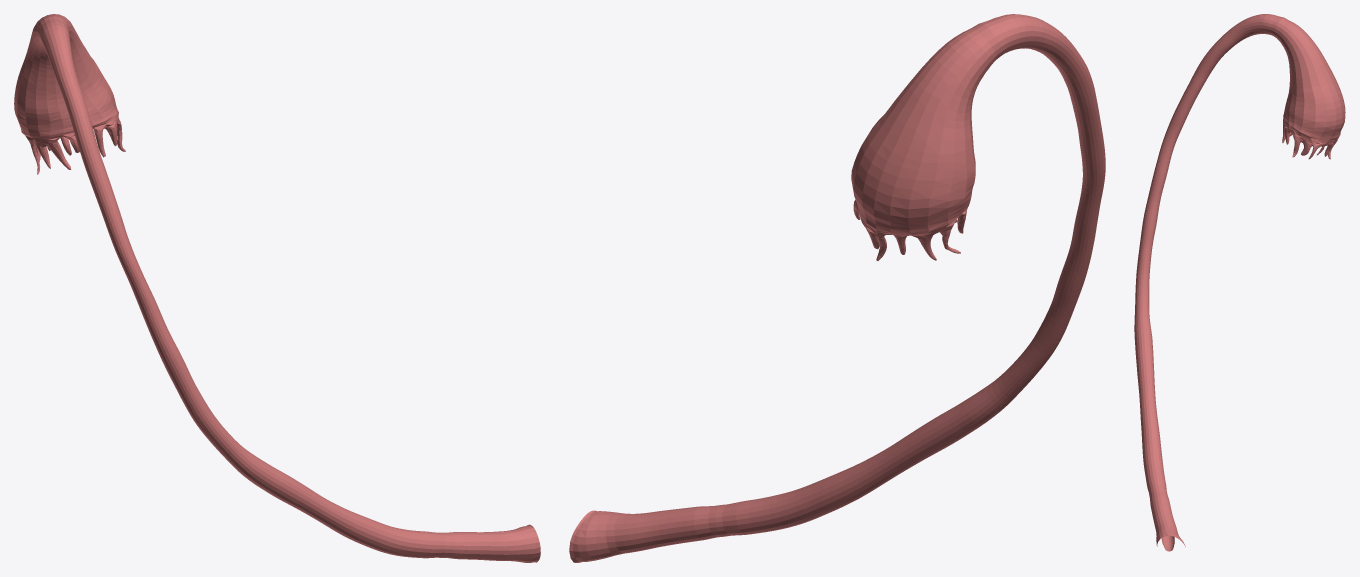
The model's file is VH_F_Fallopian_Tube_R_0.8.glb.
3 renders of one model, left to right at view 1: azimuth 30°, elevation 25°; view 2: azimuth 150°, elevation 25°; view 3: azimuth 270°, elevation 25°, orthographic. The views are drawn at different scales.
Parts seen in each view (by area): view 1: VH_F_ampulla_of_uterine_tube_R, VH_F_uterine_tube_infundibulum_R, VH_F_isthmus_of_fallopian_tube_R, VH_F_fibria_of_uterine_tube_R; view 2: VH_F_ampulla_of_uterine_tube_R, VH_F_uterine_tube_infundibulum_R, VH_F_isthmus_of_fallopian_tube_R, VH_F_fibria_of_uterine_tube_R; view 3: VH_F_ampulla_of_uterine_tube_R, VH_F_uterine_tube_infundibulum_R, VH_F_isthmus_of_fallopian_tube_R, VH_F_fibria_of_uterine_tube_R.
Part boxes in pixels (bbox=[...]): VH_F_ampulla_of_uterine_tube_R: bbox=[37, 16, 450, 558]; VH_F_uterine_tube_infundibulum_R: bbox=[14, 14, 118, 136]; VH_F_isthmus_of_fallopian_tube_R: bbox=[442, 524, 540, 562]; VH_F_fibria_of_uterine_tube_R: bbox=[22, 112, 125, 174]; VH_F_ampulla_of_uterine_tube_R: bbox=[715, 14, 1105, 536]; VH_F_uterine_tube_infundibulum_R: bbox=[851, 23, 1001, 233]; VH_F_isthmus_of_fallopian_tube_R: bbox=[569, 505, 722, 562]; VH_F_fibria_of_uterine_tube_R: bbox=[853, 200, 967, 260]; VH_F_ampulla_of_uterine_tube_R: bbox=[1134, 14, 1283, 493]; VH_F_uterine_tube_infundibulum_R: bbox=[1273, 17, 1345, 139]; VH_F_isthmus_of_fallopian_tube_R: bbox=[1149, 488, 1185, 551]; VH_F_fibria_of_uterine_tube_R: bbox=[1282, 117, 1339, 159].
Bounding box in the file's own units: 0.0344 × 0.0446 × 0.0209.
